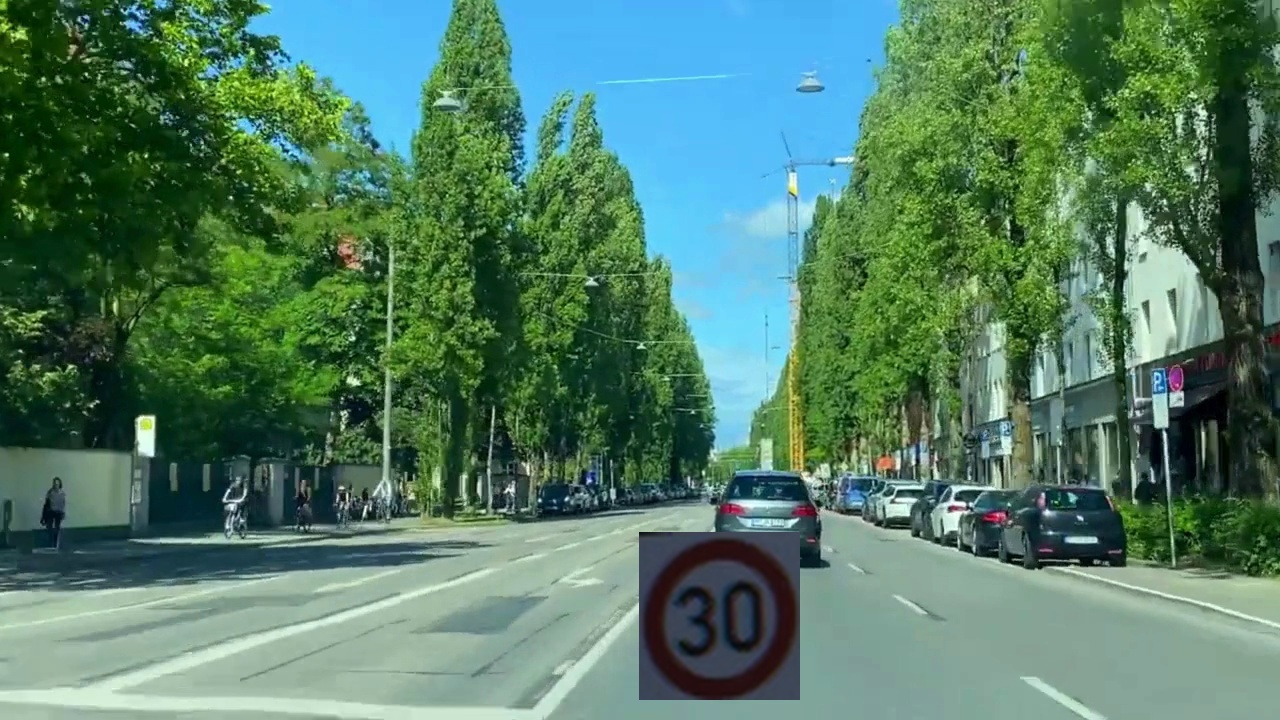Speed 30: (639, 532, 800, 700)
